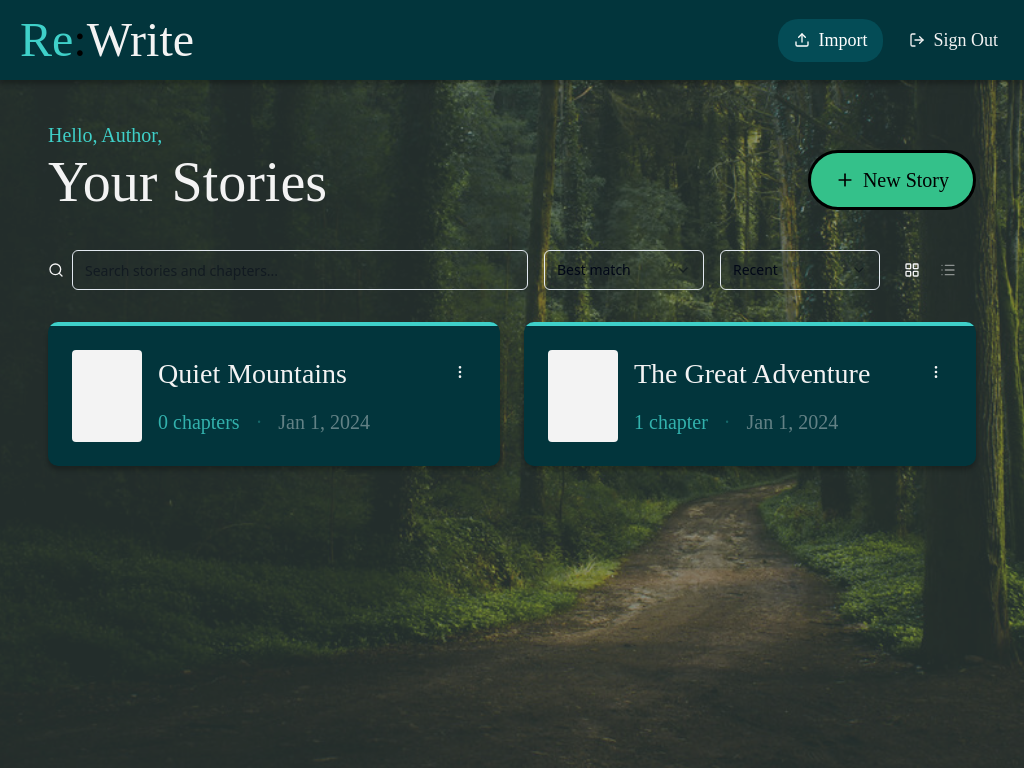
it: DashboardContent search › shows a no-matches message when nothing matches the query
Expected: the heading "The Great Adventure" is shown, [634, 356, 870, 390]
Type "nonexistent" into the field labelled "Search stories and chapters" at (300, 270), box [72, 250, 528, 290]
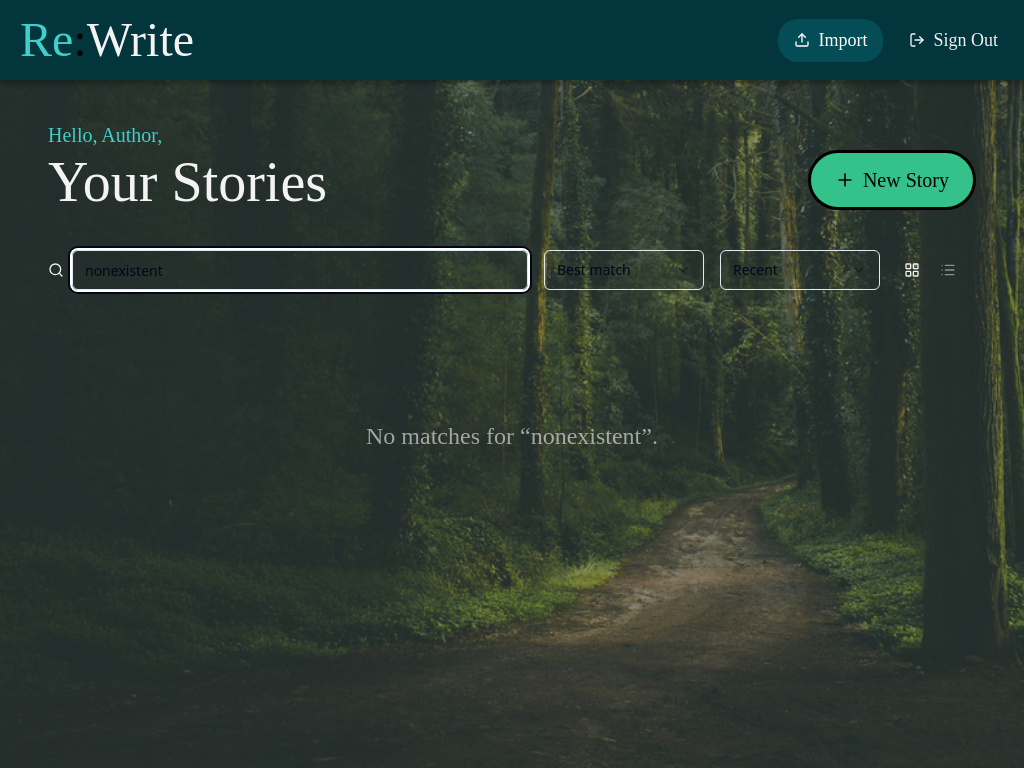
Result: the text "No matches for “nonexistent”." is shown at [366, 418, 658, 454]
